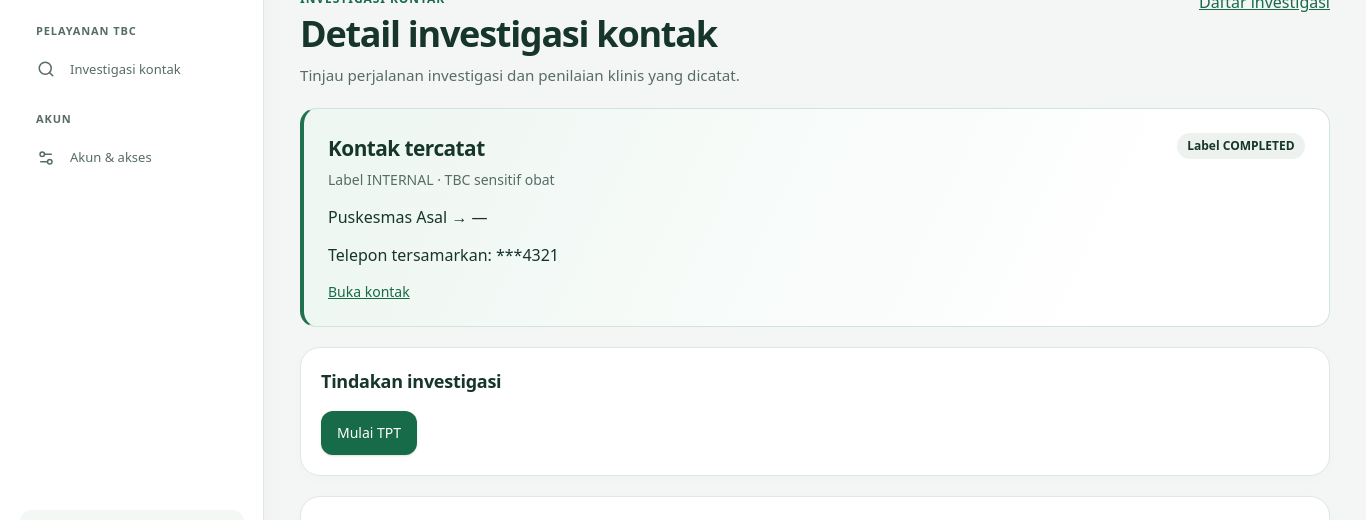
Test: TPT write-only actor may start without TPT history/read navigation
Click the button "Mulai TPT" at coordinates (369, 434), box [321,412,417,456]
(page scrolled)
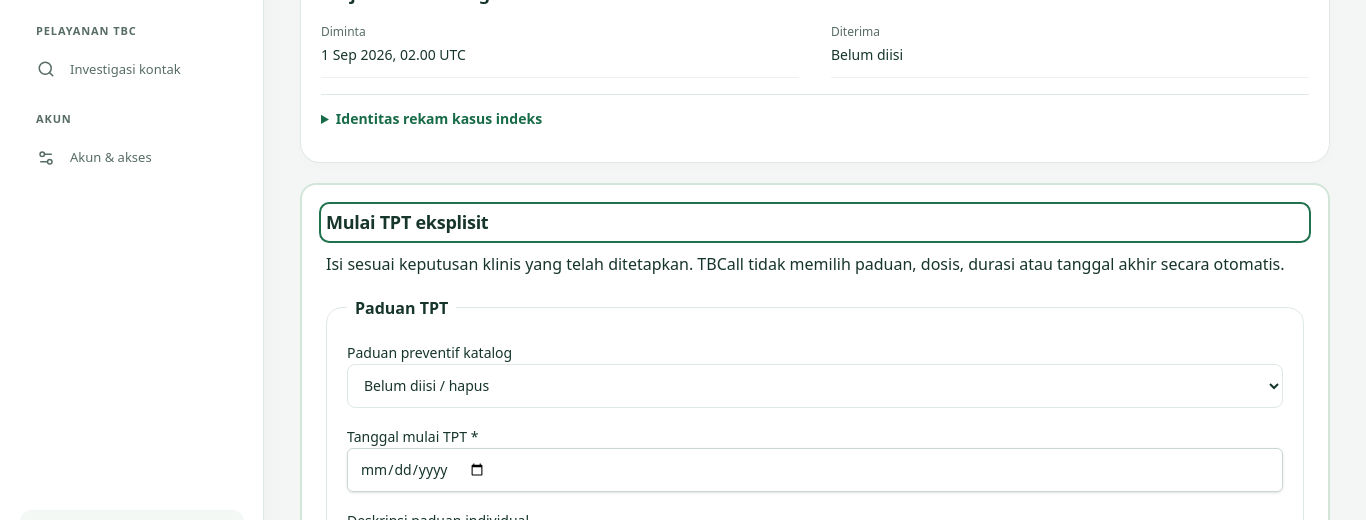
Type "2026-09-01" into the date field labelled "Tanggal mulai TPT *" at coordinates (815, 470), box [347,448,1283,492]
(page scrolled)
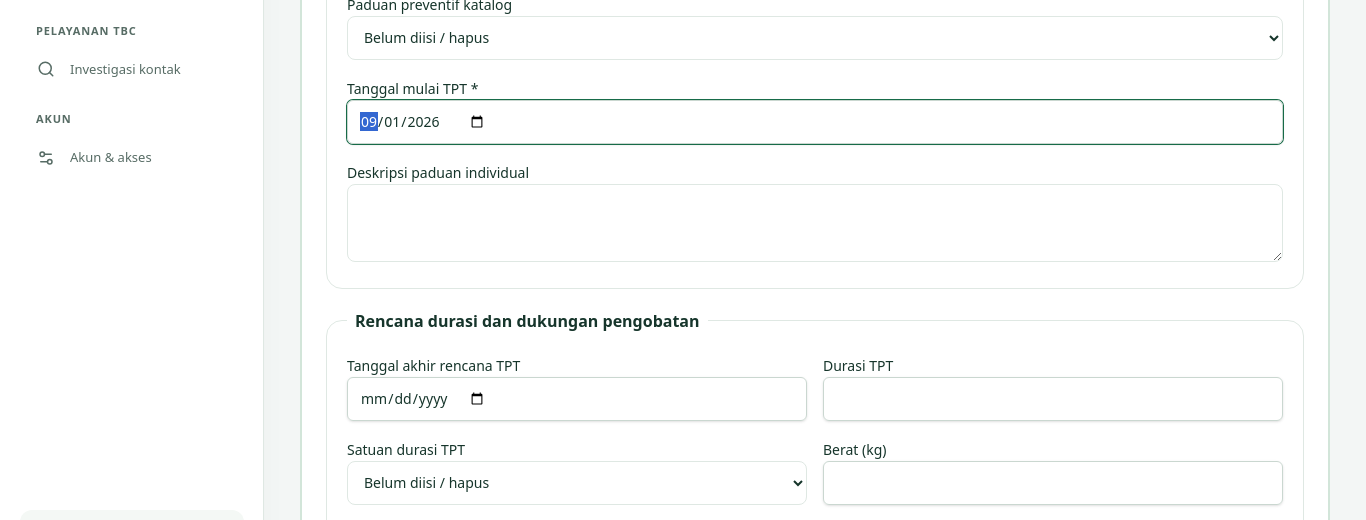
Type "Explicit regimen" into the text box labelled "Deskripsi paduan individual" at coordinates (815, 223), box [347,184,1283,262]
(page scrolled)
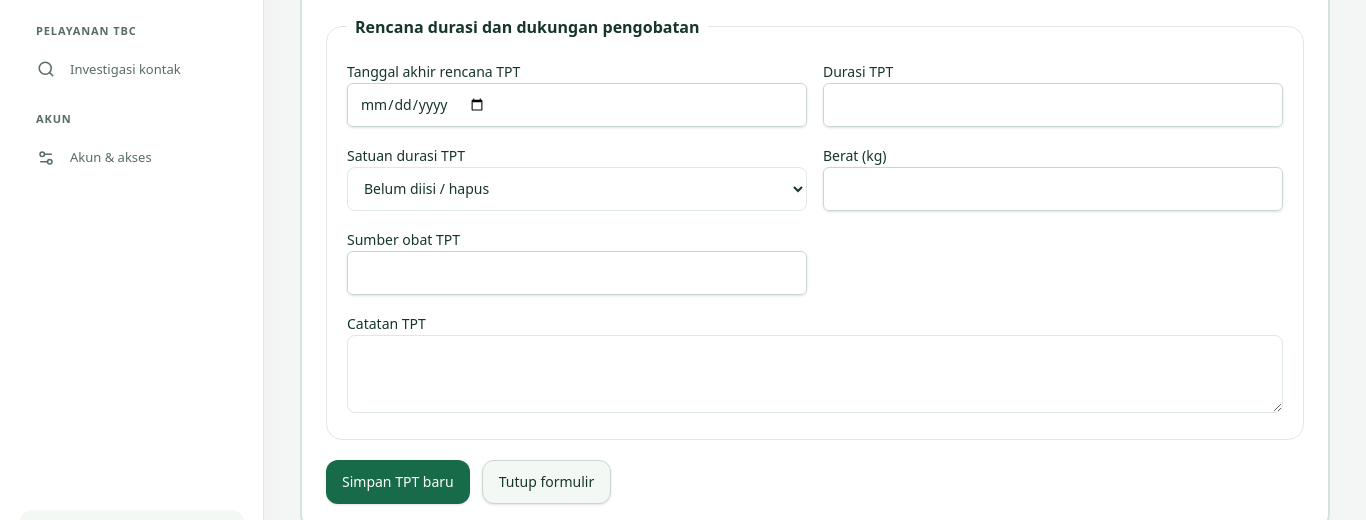
Click the button "Simpan TPT baru" at coordinates (398, 482), box [326,460,470,504]
(page scrolled)
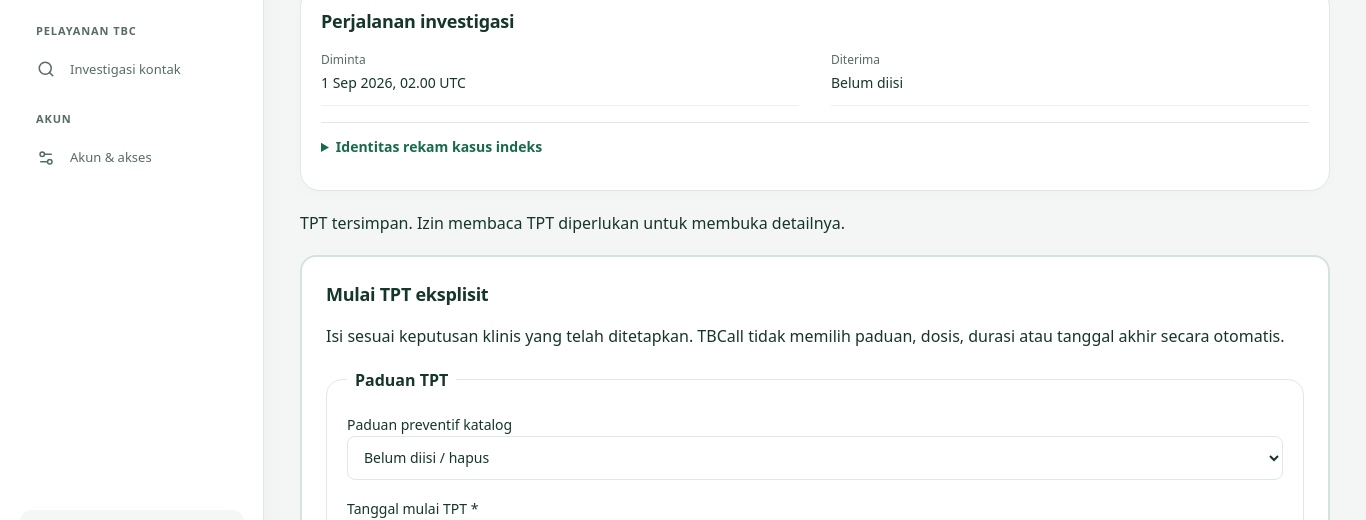
Expected: the text "TPT tersimpan. Izin membaca TPT diperlukan untuk membuka detailnya." is shown, [300,212,845,234]
